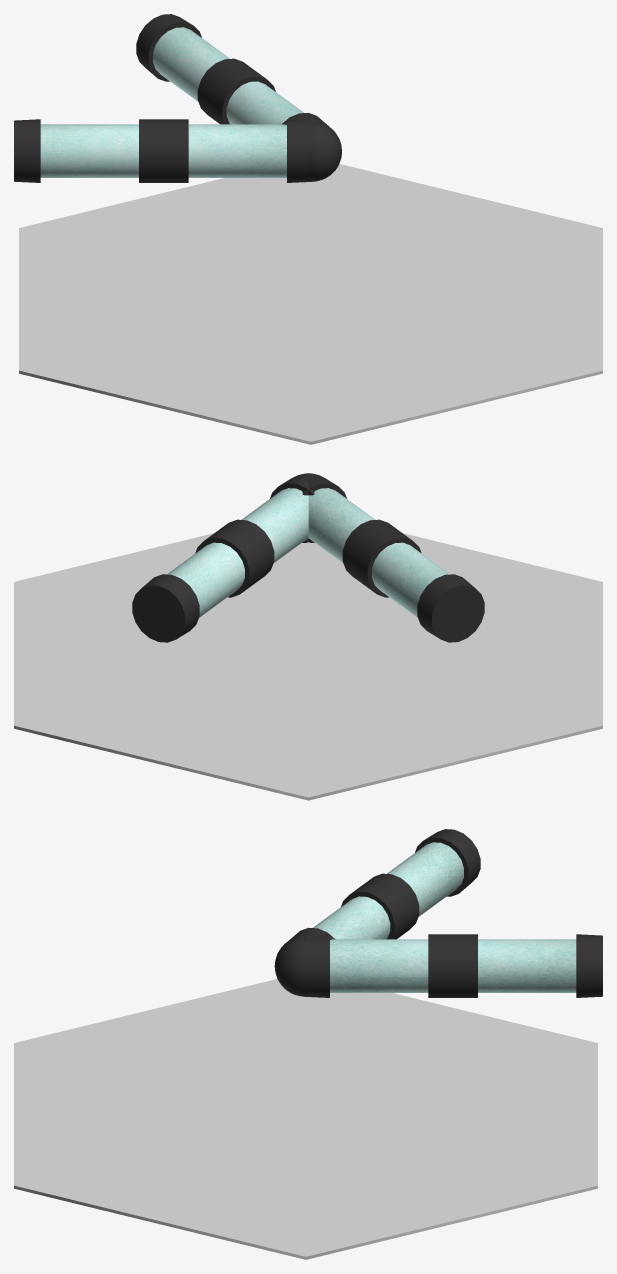
3 renders of one model, top to bottom at view 1: azimuth 30°, elevation 25°; view 2: azimuth 150°, elevation 25°; view 3: azimuth 270°, elevation 25°, orthographic.
Visible parts, largest first — view 1: Cylinder031, Cylinder028, Cylinder029, Sphere002; view 2: Cylinder031, Cylinder029, Cylinder028; view 3: Cylinder031, Cylinder029, Cylinder028, Sphere002.
Part boxes in pixels (x1,y1,x2,y2): Cylinder031: (19,164,602,444); Cylinder028: (14,119,313,182); Cylinder029: (136,14,329,126); Sphere002: (308,123,341,181); Cylinder031: (14,533,602,800); Cylinder029: (132,474,314,642); Cylinder028: (302,474,484,642); Cylinder031: (14,979,597,1259); Cylinder029: (303,934,602,997); Cylinder028: (287,829,480,941); Sphere002: (274,937,307,996).
Size of the model in its own units: 100 by 29.5 by 87.35.
Materials: 2 (2 with a texture image).
